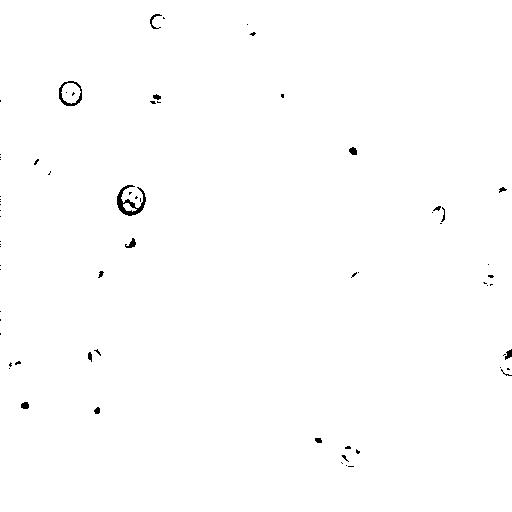micro-algae: (147, 17, 237, 108), (115, 183, 148, 218), (103, 268, 135, 299), (177, 45, 207, 78), (337, 136, 368, 165), (273, 75, 301, 105), (479, 253, 504, 284), (238, 13, 263, 43), (304, 426, 331, 452), (337, 441, 364, 467), (345, 268, 371, 293), (60, 79, 83, 107), (11, 393, 34, 418), (31, 154, 53, 180), (85, 345, 107, 371), (85, 399, 109, 421), (427, 203, 447, 227), (491, 181, 512, 203), (83, 263, 104, 283), (115, 231, 138, 248), (499, 344, 511, 376), (149, 11, 167, 30), (7, 357, 24, 376), (439, 0, 463, 11), (140, 502, 167, 511)
